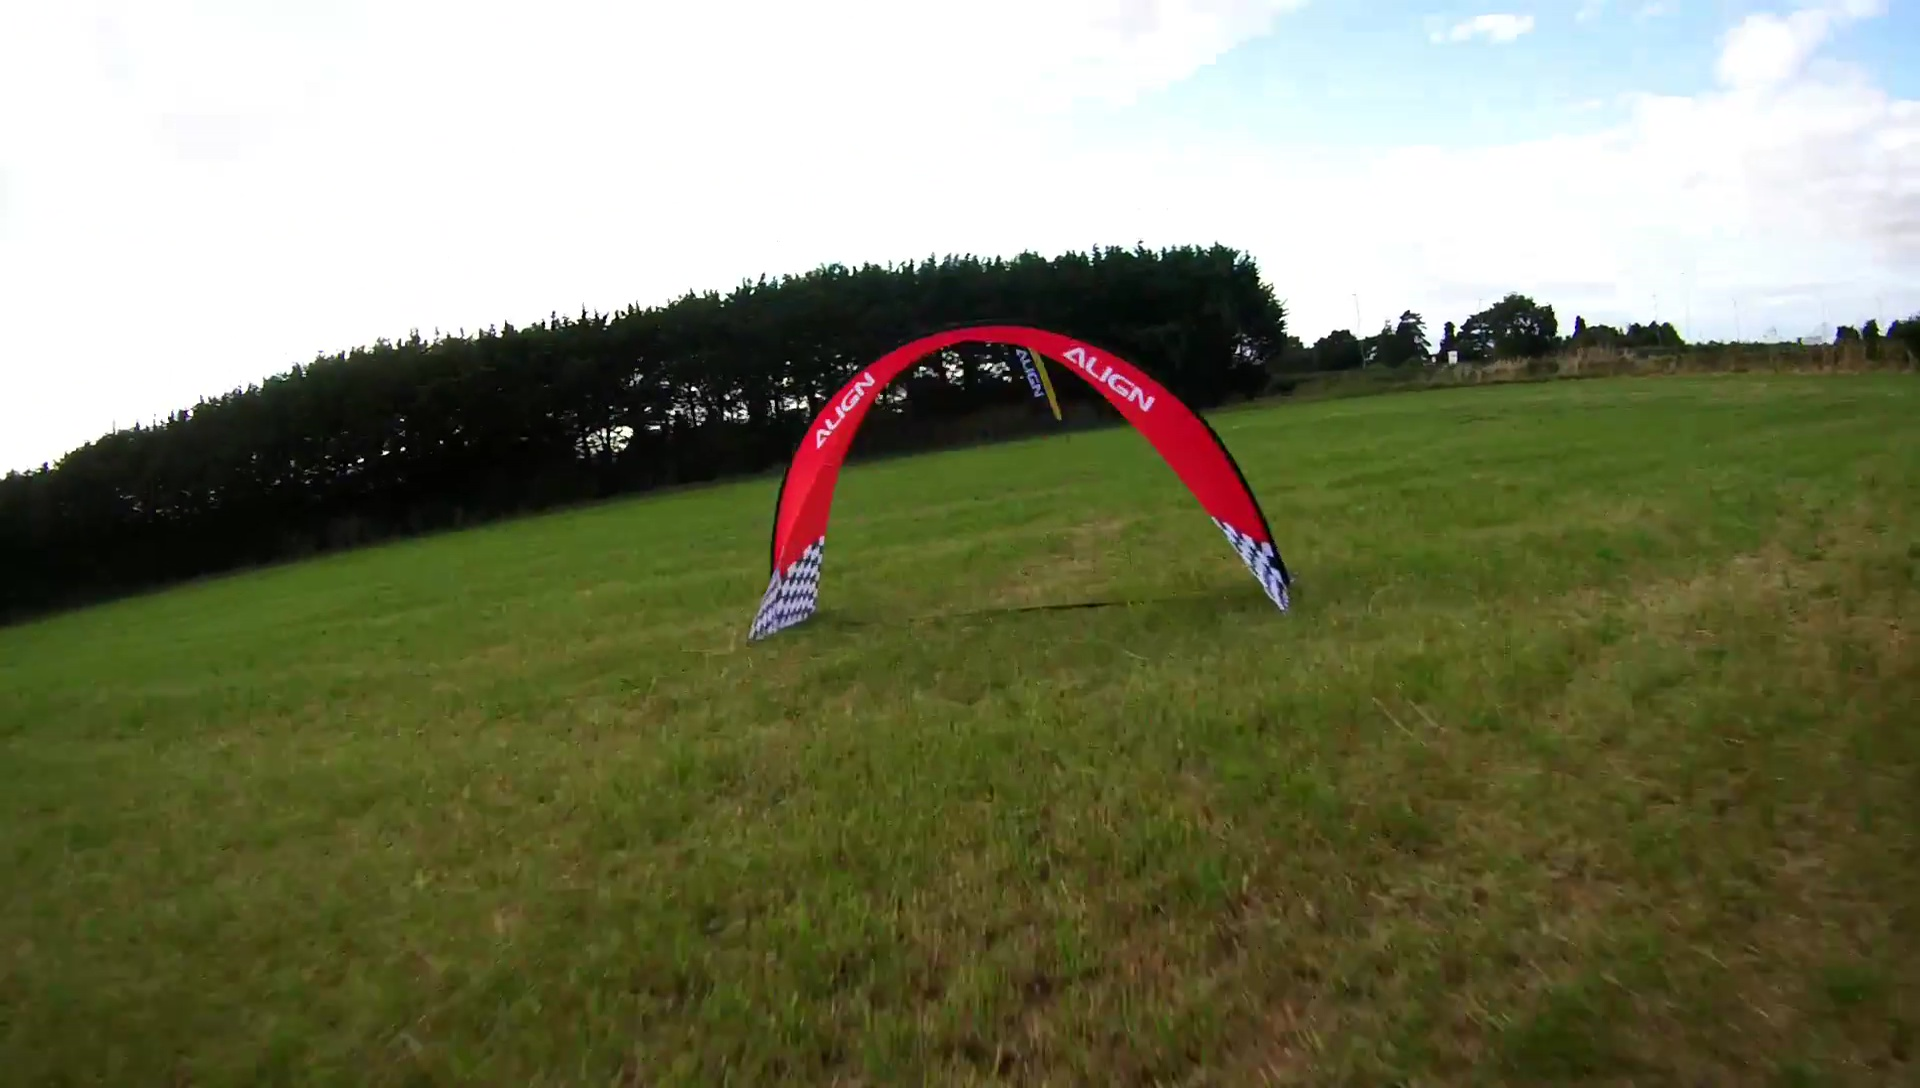gate: (749, 324, 1299, 644)
